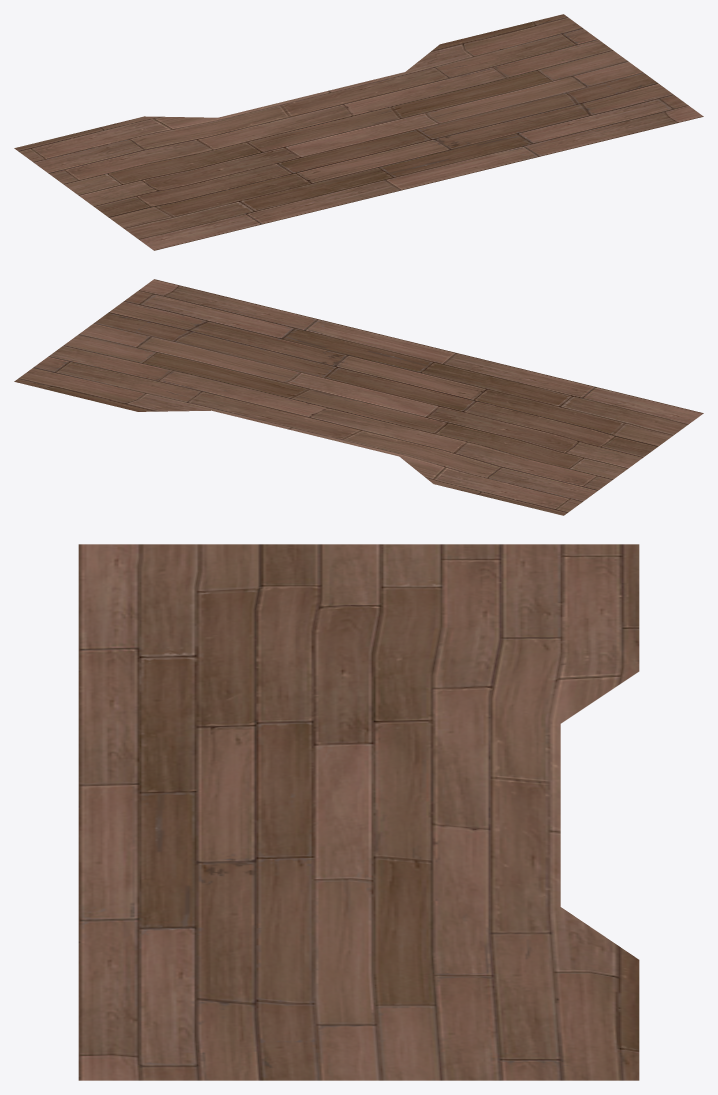
Rendered from Julebu_Floor2_fbx.FBX.
3 views of the same model, one above another, from view 1: azimuth 30°, elevation 25°; view 2: azimuth 150°, elevation 25°; view 3: azimuth 270°, elevation 25° (orthographic). The views are drawn at different scales.
Parts seen in each view (by area): view 1: Object066; view 2: Object066; view 3: Object066.
Part boxes in pixels (x1,y1,x2,y2): Object066: (14, 14, 703, 250); Object066: (14, 279, 703, 515); Object066: (78, 544, 639, 1080).
Size of the model in its own units: 14.51 by 1.5e-06 by 6.41.
